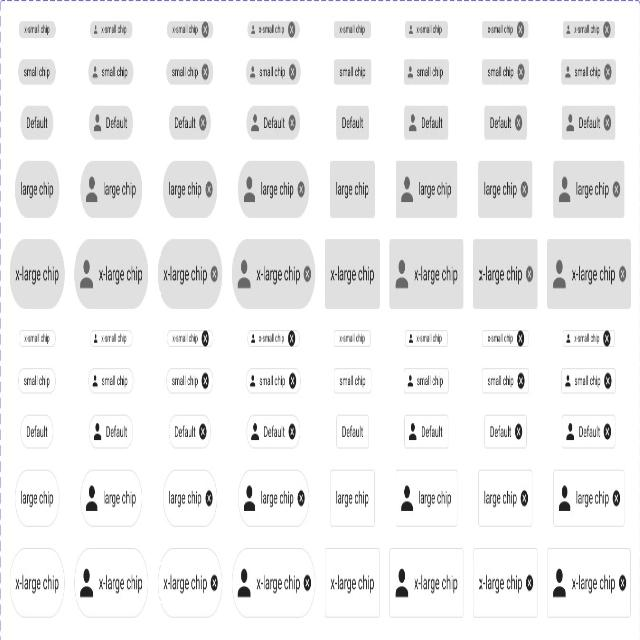QLabel: (15, 263, 60, 287), (256, 572, 300, 596), (15, 573, 60, 596), (571, 264, 616, 287), (98, 573, 143, 595), (98, 264, 143, 286), (163, 264, 207, 286), (163, 573, 207, 595), (256, 264, 300, 286), (330, 264, 374, 286), (330, 572, 374, 594), (414, 264, 458, 286), (414, 573, 458, 595), (478, 264, 522, 286), (478, 573, 522, 595), (571, 573, 616, 594), (102, 488, 137, 510), (102, 178, 136, 200), (19, 179, 54, 200), (19, 488, 54, 509), (418, 180, 452, 201), (168, 180, 202, 200), (168, 488, 202, 508), (260, 489, 294, 509), (335, 180, 369, 200), (335, 489, 369, 509), (418, 489, 452, 509), (576, 180, 610, 200), (261, 180, 294, 200), (484, 180, 517, 200), (576, 489, 609, 509), (483, 489, 517, 508), (23, 372, 51, 390), (574, 63, 601, 80), (101, 374, 128, 389), (416, 374, 443, 389), (574, 374, 601, 389), (172, 65, 198, 80), (172, 374, 198, 389), (340, 65, 366, 80), (417, 65, 443, 80), (488, 374, 514, 389), (24, 65, 51, 79), (101, 66, 128, 80), (339, 374, 366, 388), (487, 66, 514, 80), (26, 114, 48, 131), (421, 114, 443, 131), (259, 66, 285, 80), (106, 423, 128, 439), (174, 114, 196, 130), (342, 114, 364, 130), (24, 23, 51, 36), (171, 23, 198, 36), (263, 115, 286, 130), (578, 115, 601, 130), (259, 375, 285, 388), (487, 23, 513, 36), (100, 332, 128, 344), (26, 424, 48, 439), (174, 424, 196, 439), (490, 115, 512, 130), (490, 424, 512, 439), (578, 424, 600, 439), (24, 332, 51, 344), (487, 332, 514, 344), (263, 424, 286, 438), (101, 24, 127, 36), (172, 333, 198, 345), (339, 24, 365, 36), (339, 332, 365, 344), (106, 115, 128, 129), (342, 424, 364, 438), (421, 424, 443, 438), (258, 333, 285, 344), (416, 333, 442, 344), (574, 333, 600, 344), (259, 24, 284, 35)
VChip: (232, 547, 316, 618), (546, 547, 630, 618), (547, 239, 631, 309), (232, 239, 315, 309), (389, 239, 464, 309), (389, 548, 464, 618), (74, 548, 148, 618), (74, 239, 148, 309), (472, 239, 538, 309), (473, 548, 538, 618), (158, 239, 222, 309), (158, 548, 222, 618), (553, 469, 624, 527), (553, 160, 624, 218), (238, 161, 309, 218), (238, 470, 309, 527), (325, 238, 380, 310), (9, 239, 65, 309), (325, 548, 380, 618), (10, 548, 64, 618), (80, 469, 142, 528), (396, 160, 458, 218), (396, 469, 458, 527), (80, 161, 142, 218), (163, 160, 217, 218), (478, 160, 532, 218), (163, 470, 217, 527), (478, 470, 532, 527), (15, 469, 60, 527), (330, 160, 375, 218), (330, 469, 375, 527), (15, 161, 59, 218), (561, 105, 616, 140), (246, 414, 300, 448), (562, 415, 616, 449), (247, 106, 300, 140), (404, 105, 448, 140), (404, 414, 448, 449), (484, 105, 527, 140), (484, 414, 527, 449), (89, 414, 133, 448), (89, 105, 133, 139), (561, 58, 616, 85), (169, 105, 211, 140), (168, 414, 211, 448), (246, 368, 301, 394), (561, 368, 616, 393), (246, 59, 300, 84), (166, 59, 213, 85), (166, 368, 213, 394), (482, 59, 529, 85), (482, 368, 529, 394), (88, 368, 134, 394), (88, 59, 134, 85), (403, 368, 449, 394), (336, 105, 369, 140), (404, 59, 448, 85), (20, 106, 53, 140), (336, 414, 369, 448), (21, 414, 53, 449), (334, 59, 372, 85), (18, 59, 55, 85), (18, 368, 55, 394), (562, 330, 615, 348), (334, 368, 372, 393), (247, 21, 300, 38), (247, 330, 300, 347), (562, 21, 615, 38), (482, 330, 528, 348), (167, 21, 213, 38), (167, 330, 213, 347), (482, 21, 528, 38), (90, 21, 132, 39), (405, 21, 448, 38), (405, 330, 448, 347), (90, 330, 132, 347), (18, 330, 56, 348), (18, 21, 56, 38), (334, 21, 371, 38), (334, 330, 371, 347)
VIcon: (79, 566, 94, 600), (80, 258, 94, 289), (237, 567, 251, 598), (552, 567, 566, 598), (395, 567, 408, 598), (395, 259, 408, 289), (553, 259, 566, 288), (238, 258, 250, 288), (86, 484, 98, 512), (401, 484, 413, 512), (243, 176, 255, 202), (243, 485, 255, 511), (86, 176, 97, 202), (559, 485, 570, 511), (559, 176, 570, 202), (402, 176, 412, 202), (93, 113, 102, 132), (199, 112, 207, 132), (94, 422, 102, 441), (210, 264, 218, 283), (408, 113, 416, 132), (618, 264, 626, 283), (201, 62, 209, 80), (205, 180, 213, 198), (201, 372, 209, 390), (199, 422, 207, 440), (205, 489, 213, 507), (210, 574, 218, 592), (251, 114, 259, 132), (303, 265, 311, 283), (251, 422, 259, 440), (297, 489, 305, 507), (303, 574, 311, 592), (517, 62, 525, 80), (514, 114, 522, 132), (520, 180, 528, 198), (525, 265, 533, 283), (514, 422, 522, 440), (618, 574, 626, 592), (566, 422, 574, 440), (604, 372, 612, 390), (612, 180, 620, 198), (201, 21, 209, 38), (201, 329, 209, 346), (288, 63, 296, 80), (288, 114, 296, 131), (288, 372, 296, 389), (288, 423, 296, 440), (516, 372, 524, 389), (520, 489, 528, 506), (603, 114, 611, 131), (603, 21, 611, 38), (516, 330, 524, 346), (409, 422, 416, 440), (526, 574, 533, 592), (613, 489, 620, 507), (567, 113, 574, 131), (604, 63, 611, 81), (603, 331, 611, 346), (288, 21, 295, 38), (517, 21, 524, 38), (604, 423, 611, 440), (288, 331, 295, 346), (92, 373, 98, 388), (250, 65, 256, 79), (565, 64, 571, 78), (250, 374, 256, 387), (407, 374, 413, 387), (92, 66, 98, 78), (408, 64, 413, 78), (565, 374, 570, 387), (566, 24, 571, 35), (93, 333, 98, 343), (408, 333, 413, 343), (94, 24, 98, 34), (251, 24, 255, 34), (251, 333, 255, 343), (566, 333, 570, 343), (408, 25, 412, 34)
